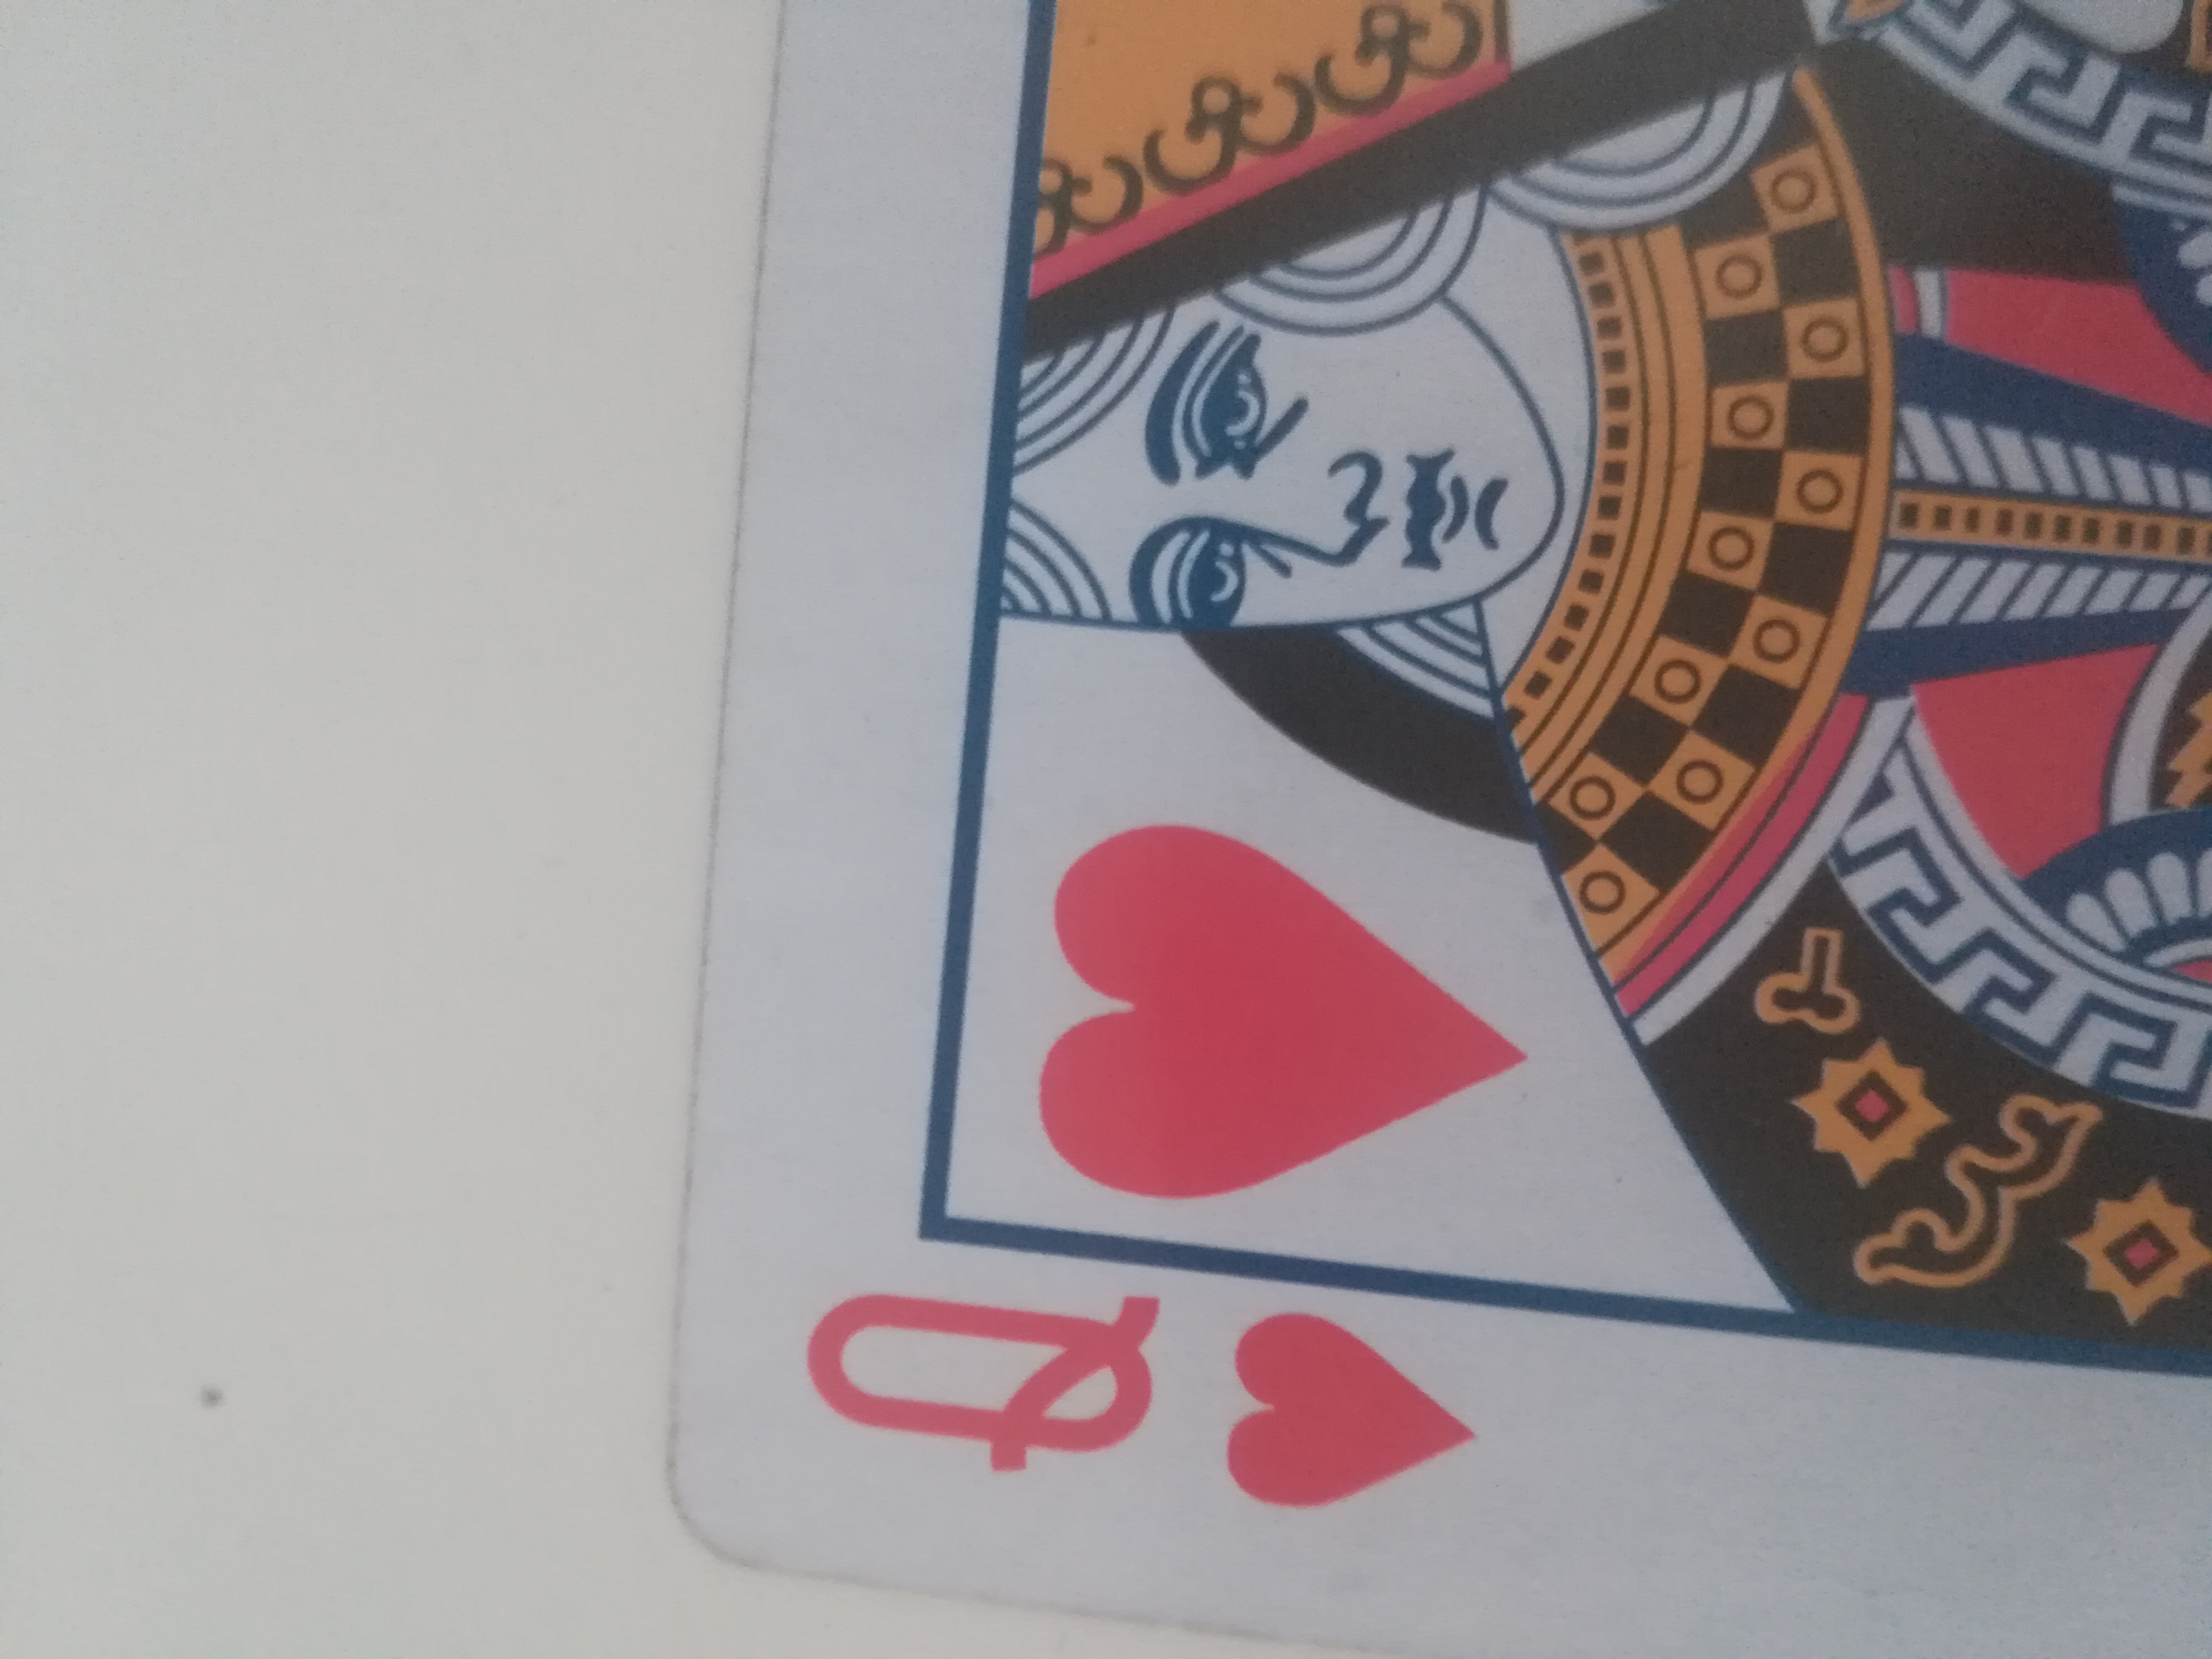QH: (672, 9, 2212, 1652)
